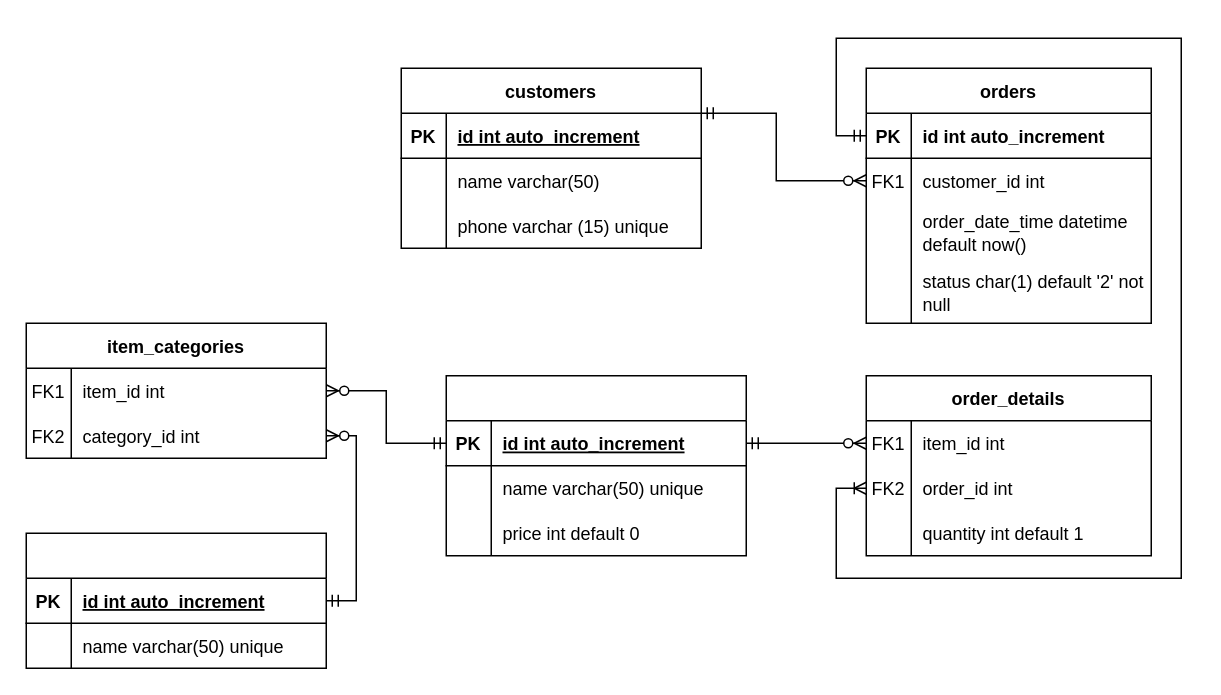
Some shapes in this 1221 by 695 pixel diagram are drawn without their labels. The shapes that lost their labels are listed below. From the top down, each one's box as (x1, y1, x2, y2) in pixels, then its label:
(445, 374, 746, 556): items
(25, 532, 326, 668): categories
